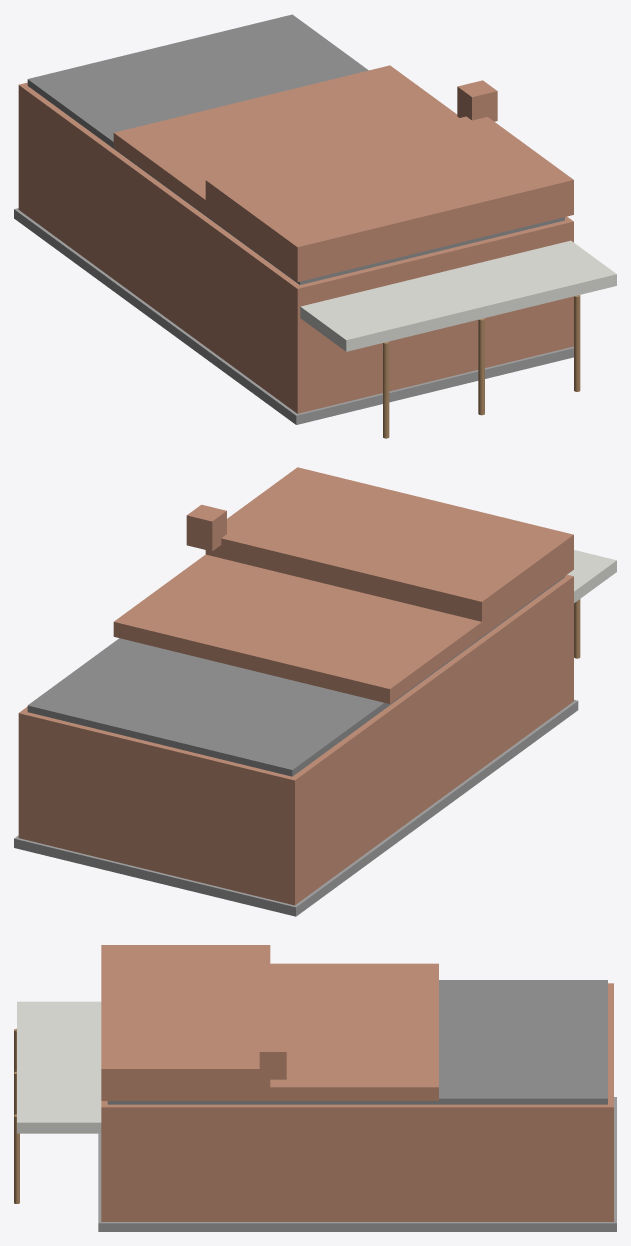
Rendered from building_iter_003.glb.
3 renders of one model, top to bottom at view 1: azimuth 30°, elevation 25°; view 2: azimuth 150°, elevation 25°; view 3: azimuth 270°, elevation 25°, orthographic. The views are drawn at different scales.
Parts seen in each view (by area): view 1: Parapet_Stepped, Building_Walls, Roof_Slab, Canopy_Roof, Foundation, Chimney_Stack, Canopy_Post_Center, Canopy_Post_Left.001, Canopy_Post_Right; view 2: Building_Walls, Parapet_Stepped, Roof_Slab, Foundation, Chimney_Stack, Canopy_Roof; view 3: Building_Walls, Parapet_Stepped, Roof_Slab, Canopy_Roof, Foundation, Chimney_Stack, Canopy_Post_Right.
Part boxes in pixels (x1,y1,x2,y2): Parapet_Stepped: (113,65,573,282); Building_Walls: (18,82,573,413); Roof_Slab: (27,14,564,284); Canopy_Roof: (300,240,616,351); Foundation: (14,208,573,424); Chimney_Stack: (457,80,497,121); Canopy_Post_Center: (478,318,484,415); Canopy_Post_Left.001: (383,341,389,438); Canopy_Post_Right: (574,295,580,391); Building_Walls: (18,574,573,905); Parapet_Stepped: (113,467,573,703); Roof_Slab: (27,576,564,776); Foundation: (14,699,578,916); Chimney_Stack: (186,504,226,551); Canopy_Roof: (567,550,616,602); Building_Walls: (101,983,613,1221); Parapet_Stepped: (101,945,438,1100); Roof_Slab: (107,980,607,1104); Canopy_Roof: (17,1001,101,1133); Foundation: (98,1097,616,1231); Chimney_Stack: (259,1040,286,1079); Canopy_Post_Right: (14,1114,19,1203).
Bounding box in the file's own units: 9.08 × 5.98 × 17.86.
